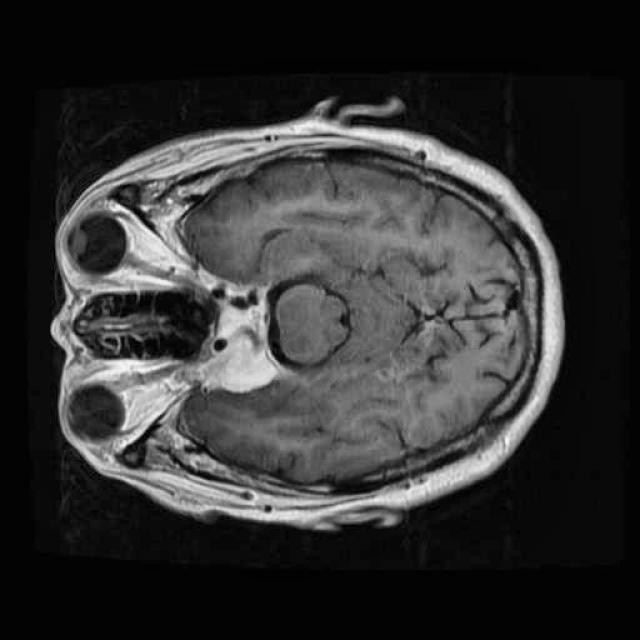Tumor: (178, 288, 296, 404)
